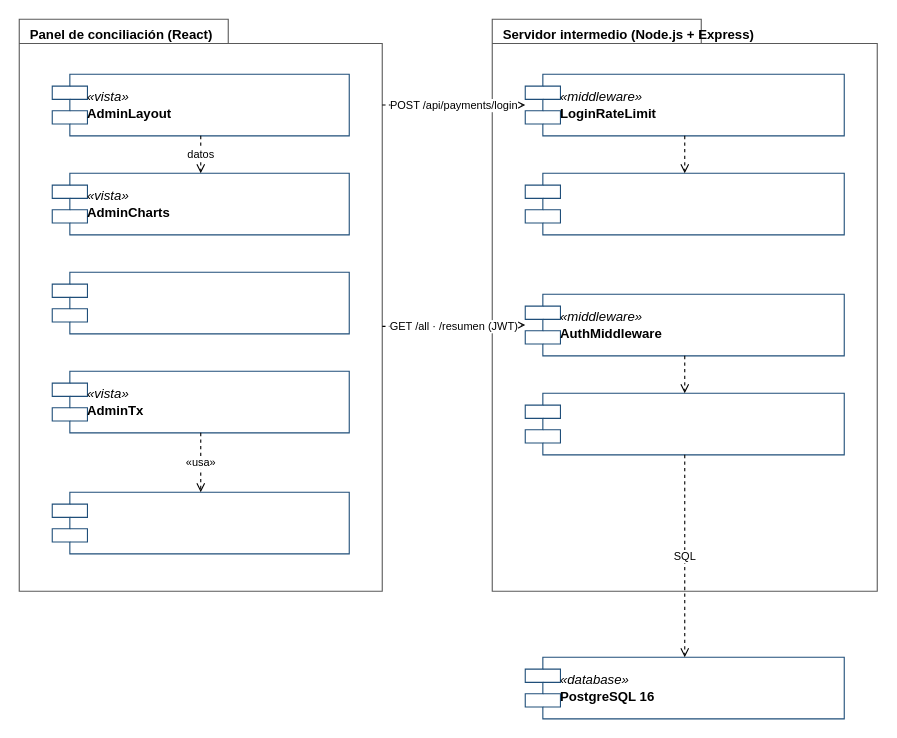
Some shapes in this 897 by 738 pixel diagram are drawn without their labels. The shapes that lost their labels are listed below. From the top down, each one's centre as x and y in pixels, then its label:
the point at 684,203: «controller» AuthController
the point at 200,302: «vista» FinancialDashboard
the point at 684,423: «controller» PaymentController
the point at 200,522: «library» jsPDF · jspdf-autotable
